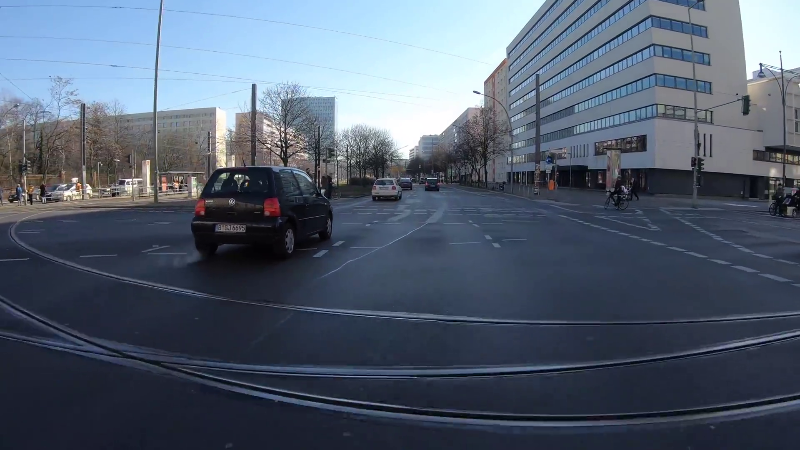Plate: (213, 222, 249, 235)
